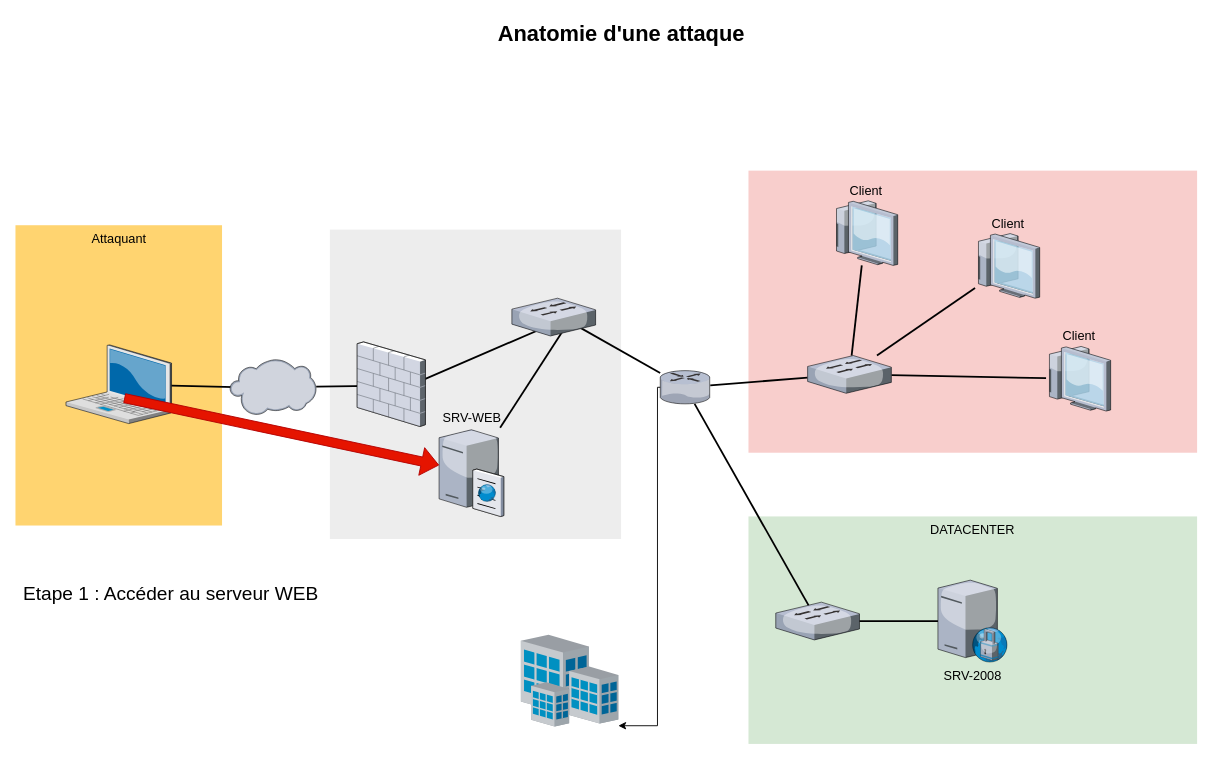
Image size: 1213x763. Some labels were removed from this diagram. Here are the shapes that lost their labels. From the top down, the box of each, then its label:
(748, 170, 1197, 452): CAMPUS
(329, 229, 621, 539): Hôpital Protection périmétrique
(521, 634, 618, 726): VPN Autres Hôpitaux
